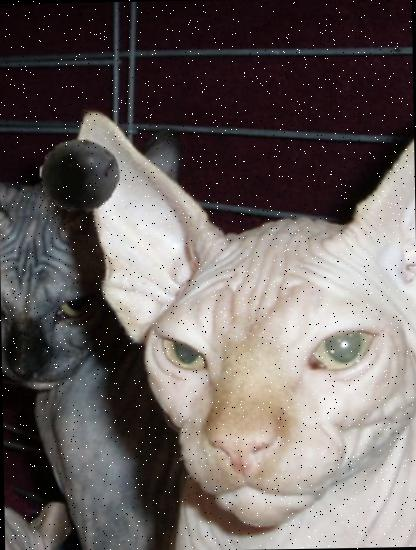Plum: (38, 134, 120, 216)
